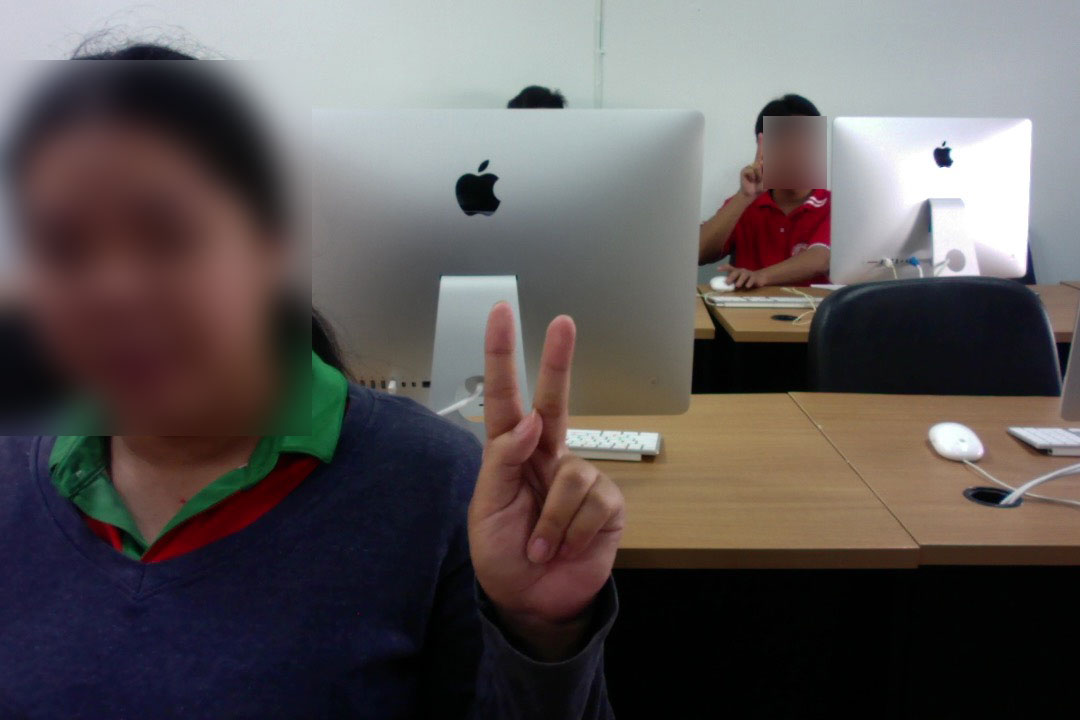ko: (463, 293, 629, 643)
